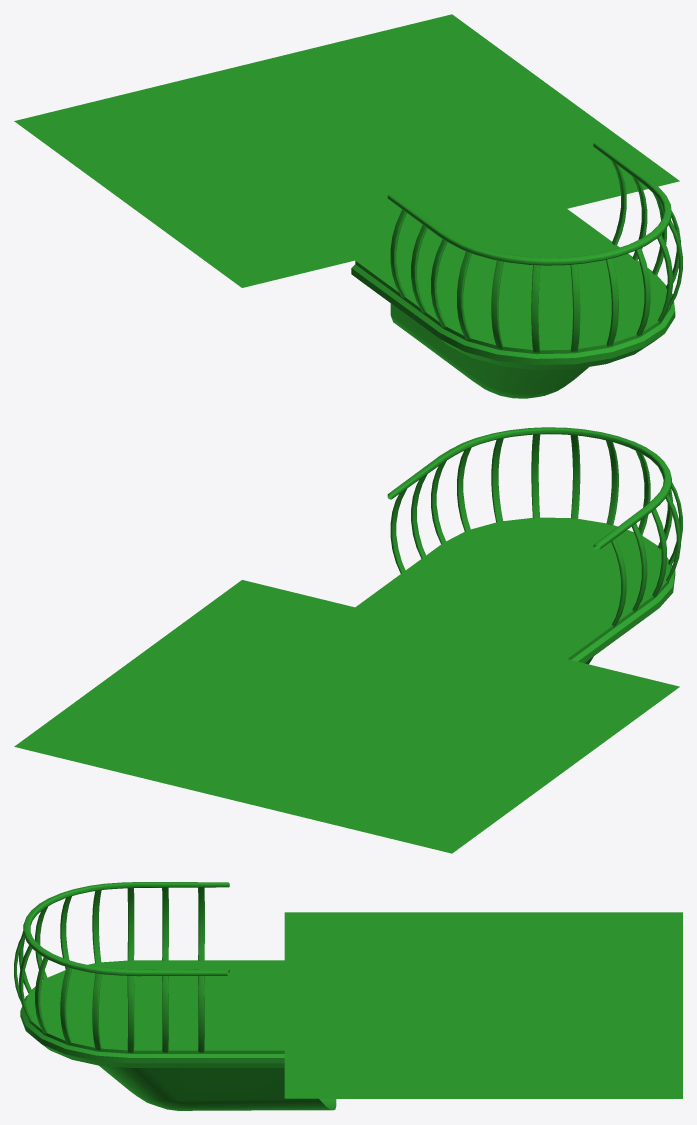
File: Play area.fbx
3 views of the same model, one above another, from view 1: azimuth 30°, elevation 25°; view 2: azimuth 150°, elevation 25°; view 3: azimuth 270°, elevation 25° (orthographic). The views are drawn at different scales.
Visible parts, largest first — view 1: floor, standing, Railing; view 2: floor, standing, Railing; view 3: floor, standing, Railing.
Part boxes in pixels (bbox=[...]): floor: bbox=[14, 14, 679, 398]; standing: bbox=[390, 160, 682, 352]; Railing: bbox=[387, 142, 671, 265]; floor: bbox=[14, 517, 679, 853]; standing: bbox=[390, 434, 682, 627]; Railing: bbox=[387, 427, 671, 549]; floor: bbox=[20, 912, 682, 1110]; standing: bbox=[14, 887, 204, 1052]; Railing: bbox=[23, 882, 229, 976].
Bounding box in the file's own units: 465 × 205 × 704.
